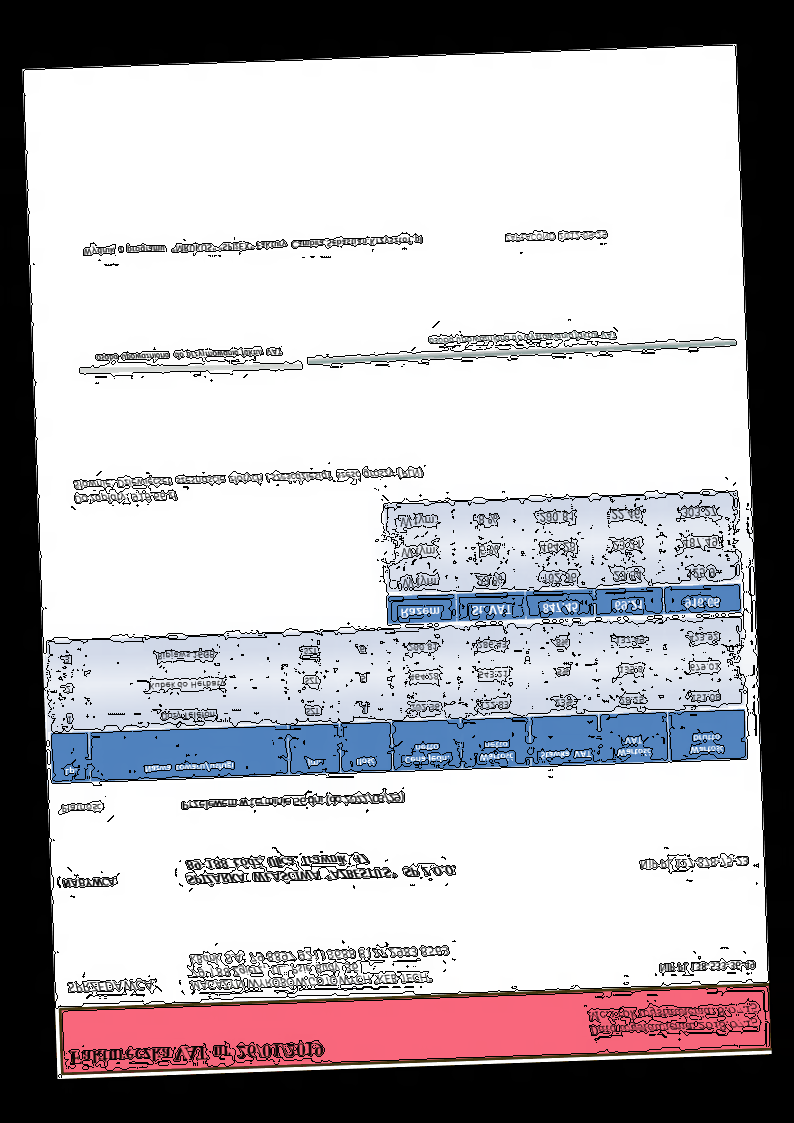Table: (45, 616, 749, 784), (383, 490, 743, 625)
TextBox: (71, 465, 425, 506), (186, 942, 451, 993), (183, 848, 459, 890), (81, 231, 425, 260), (67, 1039, 326, 1070), (585, 1000, 760, 1039), (179, 790, 405, 813), (424, 328, 619, 349), (93, 344, 285, 365), (635, 853, 748, 874), (656, 957, 757, 976), (503, 228, 608, 246), (64, 976, 157, 996), (59, 874, 118, 892), (59, 800, 107, 817)
